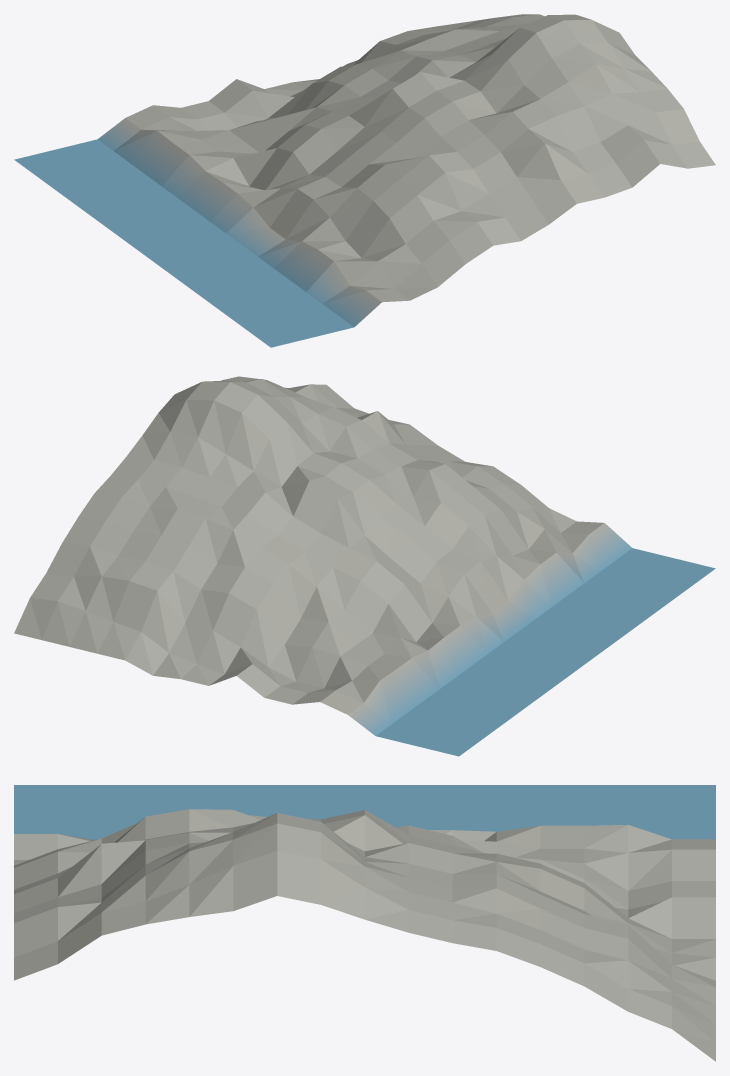
3 views of the same model, one above another, from view 1: azimuth 30°, elevation 25°; view 2: azimuth 150°, elevation 25°; view 3: azimuth 270°, elevation 25° (orthographic). The views are drawn at different scales.
Size of the model in its own units: 32 by 11.13 by 32.
